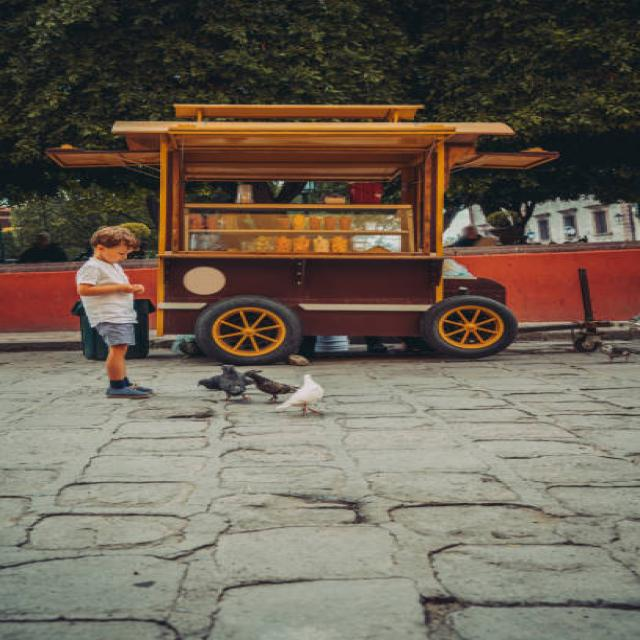Emperan: (33, 86, 576, 401)
